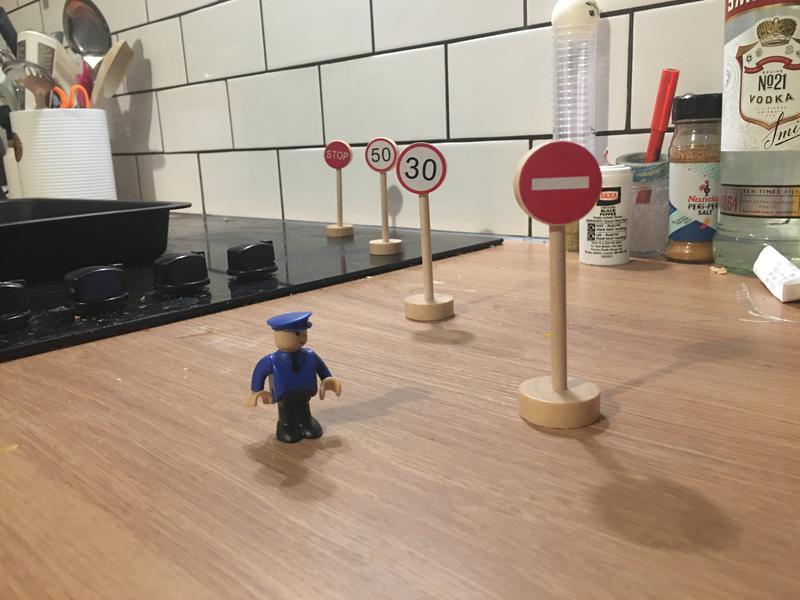Traffic_Sign_30: (397, 143, 445, 192)
Traffic_Sign_50: (365, 138, 396, 172)
Traffic_Sign_No_Entry: (519, 143, 601, 225)
Traffic_Sign_Stop: (323, 140, 352, 169)
person: (246, 311, 343, 447)
